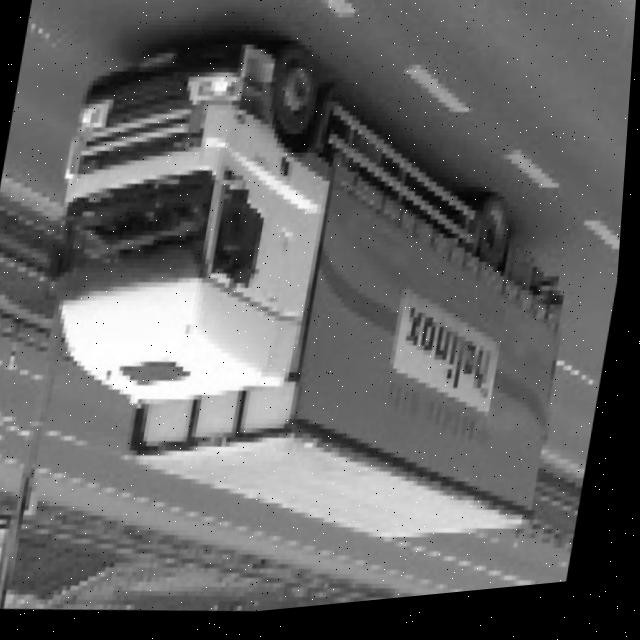truck: (9, 4, 387, 451)
